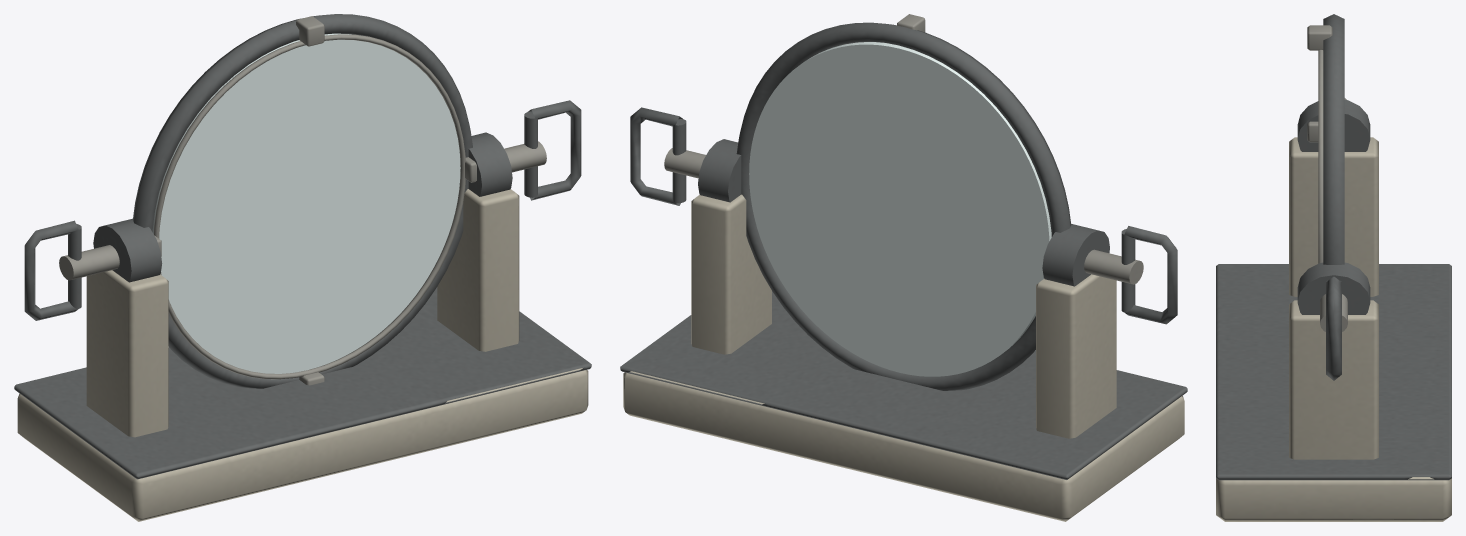
The model's file is 07-gravity-lens.fbx.
3 views of the same model, side by side, from view 1: azimuth 30°, elevation 25°; view 2: azimuth 150°, elevation 25°; view 3: azimuth 270°, elevation 25° (orthographic). The views are drawn at different scales.
Parts seen in each view (by area): view 1: Optical disk, Base rim, Heavy integral base, Lens steel rim, Bearing pedestal, Bearing pedestal.001, Lens retaining ring, Bearing, Bearing.001, Loop handle, Loop handle.001, Handle neck (+4 smaller); view 2: Optical disk, Base rim, Heavy integral base, Lens steel rim, Bearing pedestal, Bearing pedestal.001, Bearing, Bearing.001, Loop handle, Loop handle.001, Handle neck, Handle inner connection.001 (+2 smaller); view 3: Base rim, Bearing pedestal.001, Heavy integral base, Bearing pedestal, Lens steel rim, Bearing.001, Bearing, Loop handle.001, Lens retaining ring, Lens clamp.001, Handle neck.001.
Part boxes in pixels (<box>): Optical disk: <box>152,33,460,373</box>; Base rim: <box>14,287,591,479</box>; Heavy integral base: <box>17,368,588,521</box>; Lens steel rim: <box>133,14,472,388</box>; Bearing pedestal: <box>86,270,168,437</box>; Bearing pedestal.001: <box>437,189,519,351</box>; Lens retaining ring: <box>153,34,465,379</box>; Bearing: <box>93,218,162,282</box>; Bearing.001: <box>468,132,512,196</box>; Loop handle: <box>24,220,78,320</box>; Loop handle.001: <box>527,100,581,200</box>; Handle neck: <box>59,245,119,280</box>; Optical disk: <box>749,42,1051,376</box>; Base rim: <box>620,291,1187,479</box>; Heavy integral base: <box>623,371,1184,521</box>; Lens steel rim: <box>736,22,1071,390</box>; Bearing pedestal: <box>1036,274,1116,438</box>; Bearing pedestal.001: <box>691,194,771,354</box>; Bearing: <box>1042,223,1109,286</box>; Bearing.001: <box>698,139,741,202</box>; Loop handle: <box>1124,226,1177,324</box>; Loop handle.001: <box>630,107,682,205</box>; Handle neck: <box>1084,249,1143,284</box>; Handle inner connection.001: <box>672,119,686,203</box>; Base rim: <box>1216,264,1451,480</box>; Bearing pedestal.001: <box>1289,300,1378,459</box>; Heavy integral base: <box>1216,477,1451,521</box>; Bearing pedestal: <box>1289,137,1378,296</box>; Lens steel rim: <box>1323,14,1344,264</box>; Bearing.001: <box>1297,262,1370,314</box>; Bearing: <box>1297,99,1370,151</box>; Loop handle.001: <box>1326,276,1341,380</box>; Lens retaining ring: <box>1318,50,1323,263</box>; Lens clamp.001: <box>1307,25,1332,50</box>; Handle neck.001: <box>1320,294,1347,331</box>.
Size of the model in its own units: 135 by 95 by 52.
4 materials, 3 textured.
